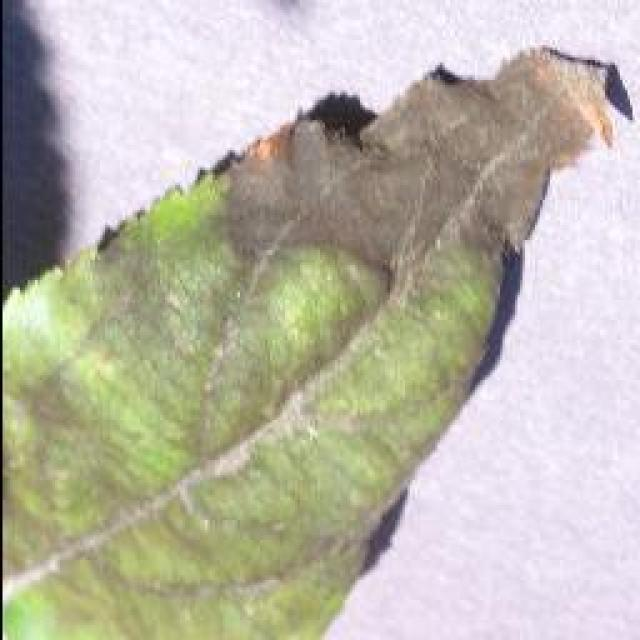apple scab disease: (0, 40, 635, 638)
